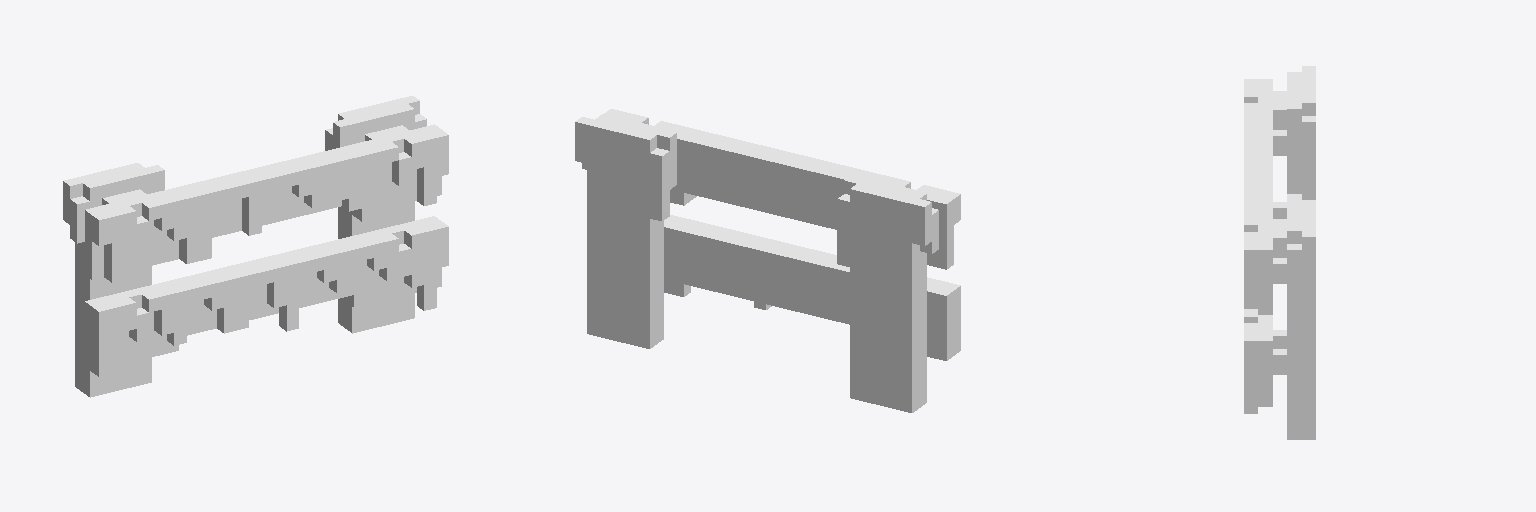
Rendered from Smol-NewFence.obj.
3 views of the same model, side by side, from view 1: azimuth 30°, elevation 25°; view 2: azimuth 150°, elevation 25°; view 3: azimuth 270°, elevation 25° (orthographic).
Visible parts, largest first — view 1: object 1; view 2: object 1; view 3: object 1.
Boxes of the visible parts, x1,y1,x2,y2 form: object 1: [63, 96, 448, 397]; object 1: [575, 109, 960, 412]; object 1: [1244, 66, 1315, 439].
Size of the model in its own units: 2.8 by 1.6 by 0.5.